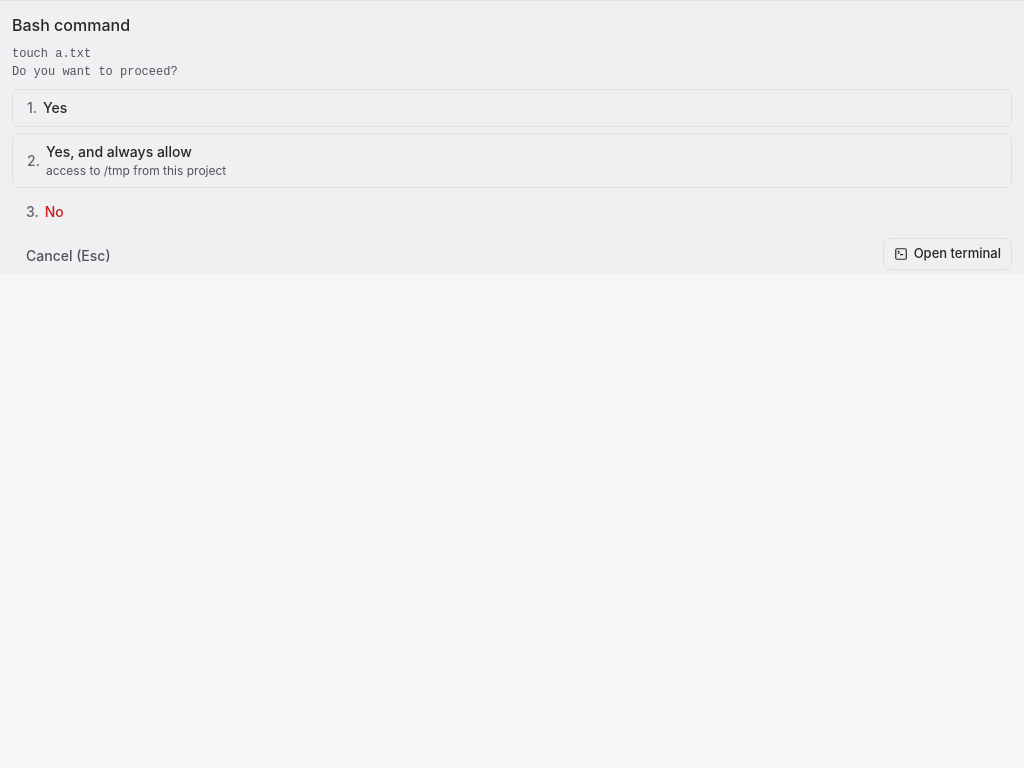
Test: PromptCard › an id already used (another device answered) polls again
The width and height of the screenshot is (1024, 768).
Click the button "1. Yes": [30, 108] box [12, 89, 1012, 127]
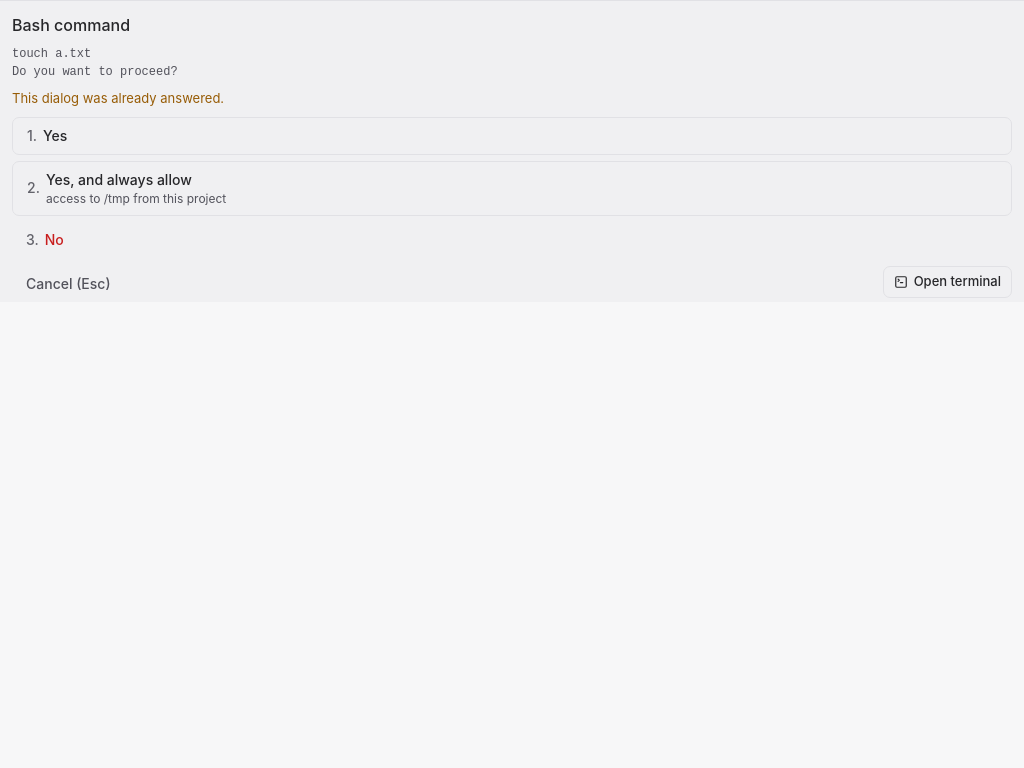
Expected: the text "This dialog was already answered." is shown, [12, 90, 224, 106]
